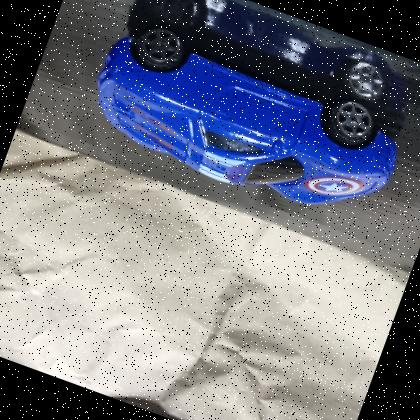Car: (70, 6, 420, 245)
